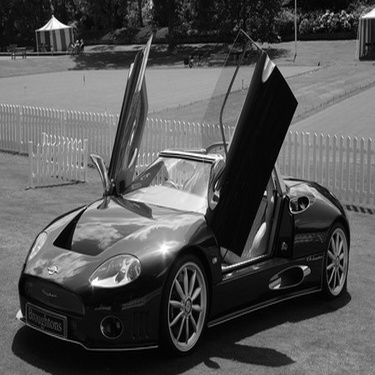car: (21, 28, 356, 351)
